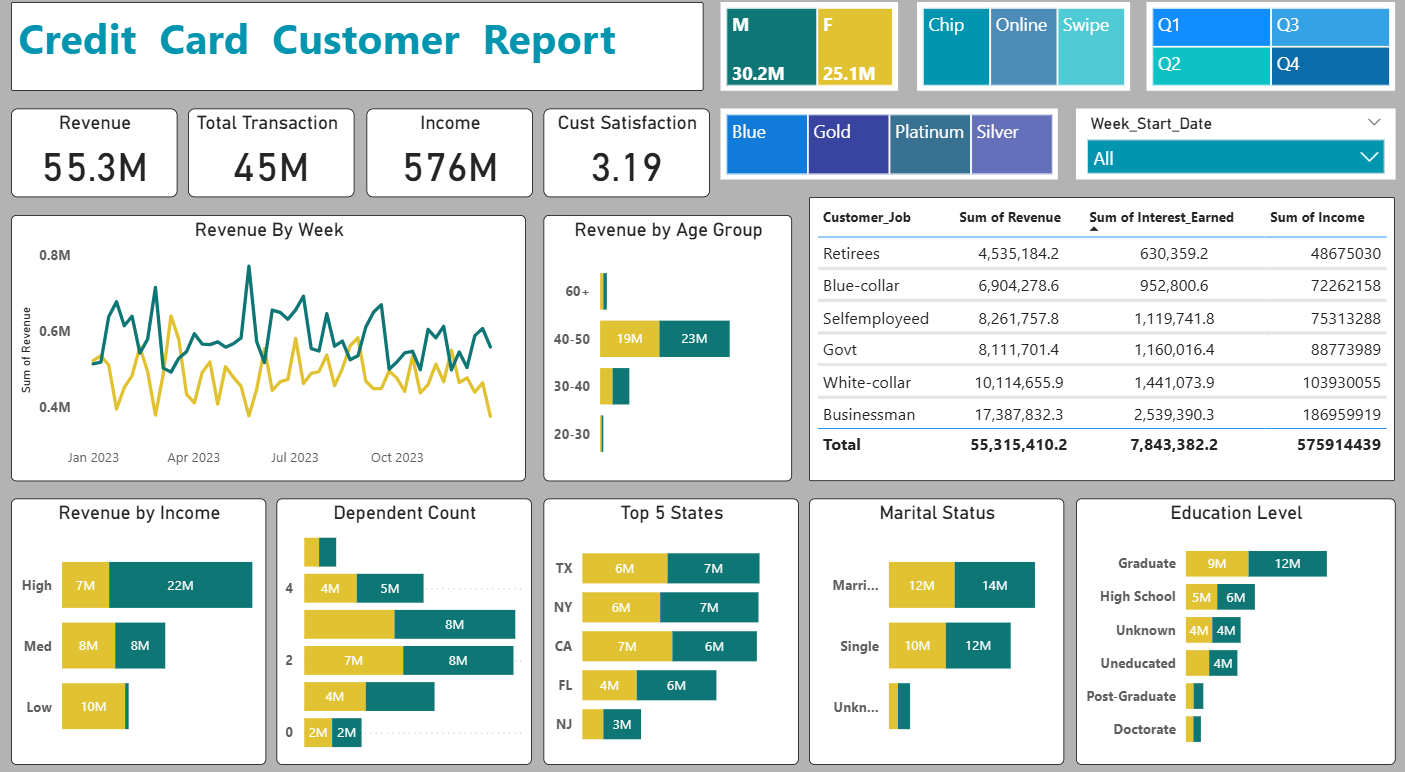

The page's visual inventory and layout, read from the dashboard file:
{"tool":"powerbi","page":{"name":"Cust","canvas":[1280,720],"ordinal":1},"visuals":[{"type":"textbox","box":[16,16,624,80],"z":0},{"type":"tableEx","fields":{"Values":["public cust_detail.Customer_Job","Sum(public cc_detail.Revenue)","Sum(public cc_detail.Interest_Earned)","Sum(public cust_detail.Income)"]},"box":[736,192,528,256],"z":1000},{"type":"card","title":"Revenue","fields":{"Values":["Sum(public cc_detail.Revenue)"]},"box":[16,112,150,80],"z":2000},{"type":"card","title":"Total Transaction","fields":{"Values":["Sum(public cc_detail.Total_Trans_Amt)"]},"box":[176,112,150,80],"z":3000},{"type":"card","title":"Income","fields":{"Values":["Sum(public cust_detail.Income)"]},"box":[336,112,150,80],"z":4000},{"type":"card","title":"Cust Satisfaction","fields":{"Values":["Avg(public cust_detail.Cust_Satisfaction_Score)"]},"box":[496,112,150,80],"z":5000},{"type":"treemap","fields":{"Group":["public cc_detail.Qtr"],"Values":["Min(public cc_detail.Credit_Limit)"]},"box":[1040,16,224,80],"z":6000},{"type":"slicer","fields":{"Values":["public cc_detail.Week_Start_Date"]},"box":[976,112,288,64],"z":7000},{"type":"treemap","fields":{"Values":["Max(public cc_detail.Credit_Limit)"],"Group":["public cc_detail.Card_Category"]},"box":[656,112,304,64],"z":8000},{"type":"lineChart","title":"Revenue By Week","fields":{"Y":["Sum(public cc_detail.Revenue)"],"Series":["public cust_detail.Gender"],"Category":["public cc_detail.Week_Start_Date.Variation.Date Hierarchy.Year","public cc_detail.Week_Start_Date.Variation.Date Hierarchy.Month","public cc_detail.Week_Start_Date.Variation.Date Hierarchy.Day"]},"box":[16,208,464,240],"z":9000},{"type":"treemap","fields":{"Group":["public cust_detail.Gender"],"Values":["Sum(public cc_detail.Revenue)"]},"box":[656,16,160,80],"z":10000},{"type":"barChart","title":"Revenue by Income","fields":{"Category":["public cust_detail.Incomegroup"],"Y":["Sum(public cc_detail.Revenue)"],"Series":["public cust_detail.Gender"]},"box":[16,464,230,240],"z":11000},{"type":"barChart","title":"Revenue by Age Group","fields":{"Y":["Sum(public cc_detail.Revenue)"],"Series":["public cust_detail.Gender"],"Category":["public cust_detail.Age_Group"]},"box":[496,208,224,240],"z":12000},{"type":"barChart","title":"Top 5 States","fields":{"Y":["Sum(public cc_detail.Revenue)"],"Category":["public cust_detail.state_cd"],"Series":["public cust_detail.Gender"]},"box":[496,464,230,240],"z":13000},{"type":"barChart","title":"Dependent Count","fields":{"Y":["Sum(public cc_detail.Revenue)"],"Category":["public cust_detail.Dependent_Count"],"Series":["public cust_detail.Gender"]},"box":[256,464,230,240],"z":14000},{"type":"barChart","title":"Marital Status","fields":{"Y":["Sum(public cc_detail.Revenue)"],"Category":["public cust_detail.Marital_Status"],"Series":["public cust_detail.Gender"]},"box":[736,464,230,240],"z":15000},{"type":"barChart","title":"Education Level","fields":{"Y":["Sum(public cc_detail.Revenue)"],"Category":["public cust_detail.Education_Level"],"Series":["public cust_detail.Gender"]},"box":[976,464,288,240],"z":16000},{"type":"treemap","fields":{"Values":["Max(public cc_detail.Credit_Limit)"],"Group":["public cc_detail.Use Chip"]},"box":[832,16,192,80],"z":17000}]}

Visuals, with their boxes in screenshot pixels (x1, y1, x2, y2), scaled from the page's 1280x720 canvas onto the 1405x772 screenshot:
textbox: (left=18, top=17, right=702, bottom=103)
tableEx - public cust_detail.Customer_Job x Sum(public cc_detail.Revenue): (left=808, top=206, right=1387, bottom=480)
"Revenue" card: (left=18, top=120, right=182, bottom=206)
"Total Transaction" card: (left=193, top=120, right=358, bottom=206)
"Income" card: (left=369, top=120, right=533, bottom=206)
"Cust Satisfaction" card: (left=544, top=120, right=709, bottom=206)
treemap - public cc_detail.Qtr x Min(public cc_detail.Credit_Limit): (left=1142, top=17, right=1387, bottom=103)
slicer - public cc_detail.Week_Start_Date: (left=1071, top=120, right=1387, bottom=189)
treemap - Max(public cc_detail.Credit_Limit) x public cc_detail.Card_Category: (left=720, top=120, right=1054, bottom=189)
"Revenue By Week" lineChart: (left=18, top=223, right=527, bottom=480)
treemap - public cust_detail.Gender x Sum(public cc_detail.Revenue): (left=720, top=17, right=896, bottom=103)
"Revenue by Income" barChart: (left=18, top=498, right=270, bottom=755)
"Revenue by Age Group" barChart: (left=544, top=223, right=790, bottom=480)
"Top 5 States" barChart: (left=544, top=498, right=797, bottom=755)
"Dependent Count" barChart: (left=281, top=498, right=533, bottom=755)
"Marital Status" barChart: (left=808, top=498, right=1060, bottom=755)
"Education Level" barChart: (left=1071, top=498, right=1387, bottom=755)
treemap - Max(public cc_detail.Credit_Limit) x public cc_detail.Use Chip: (left=913, top=17, right=1124, bottom=103)
